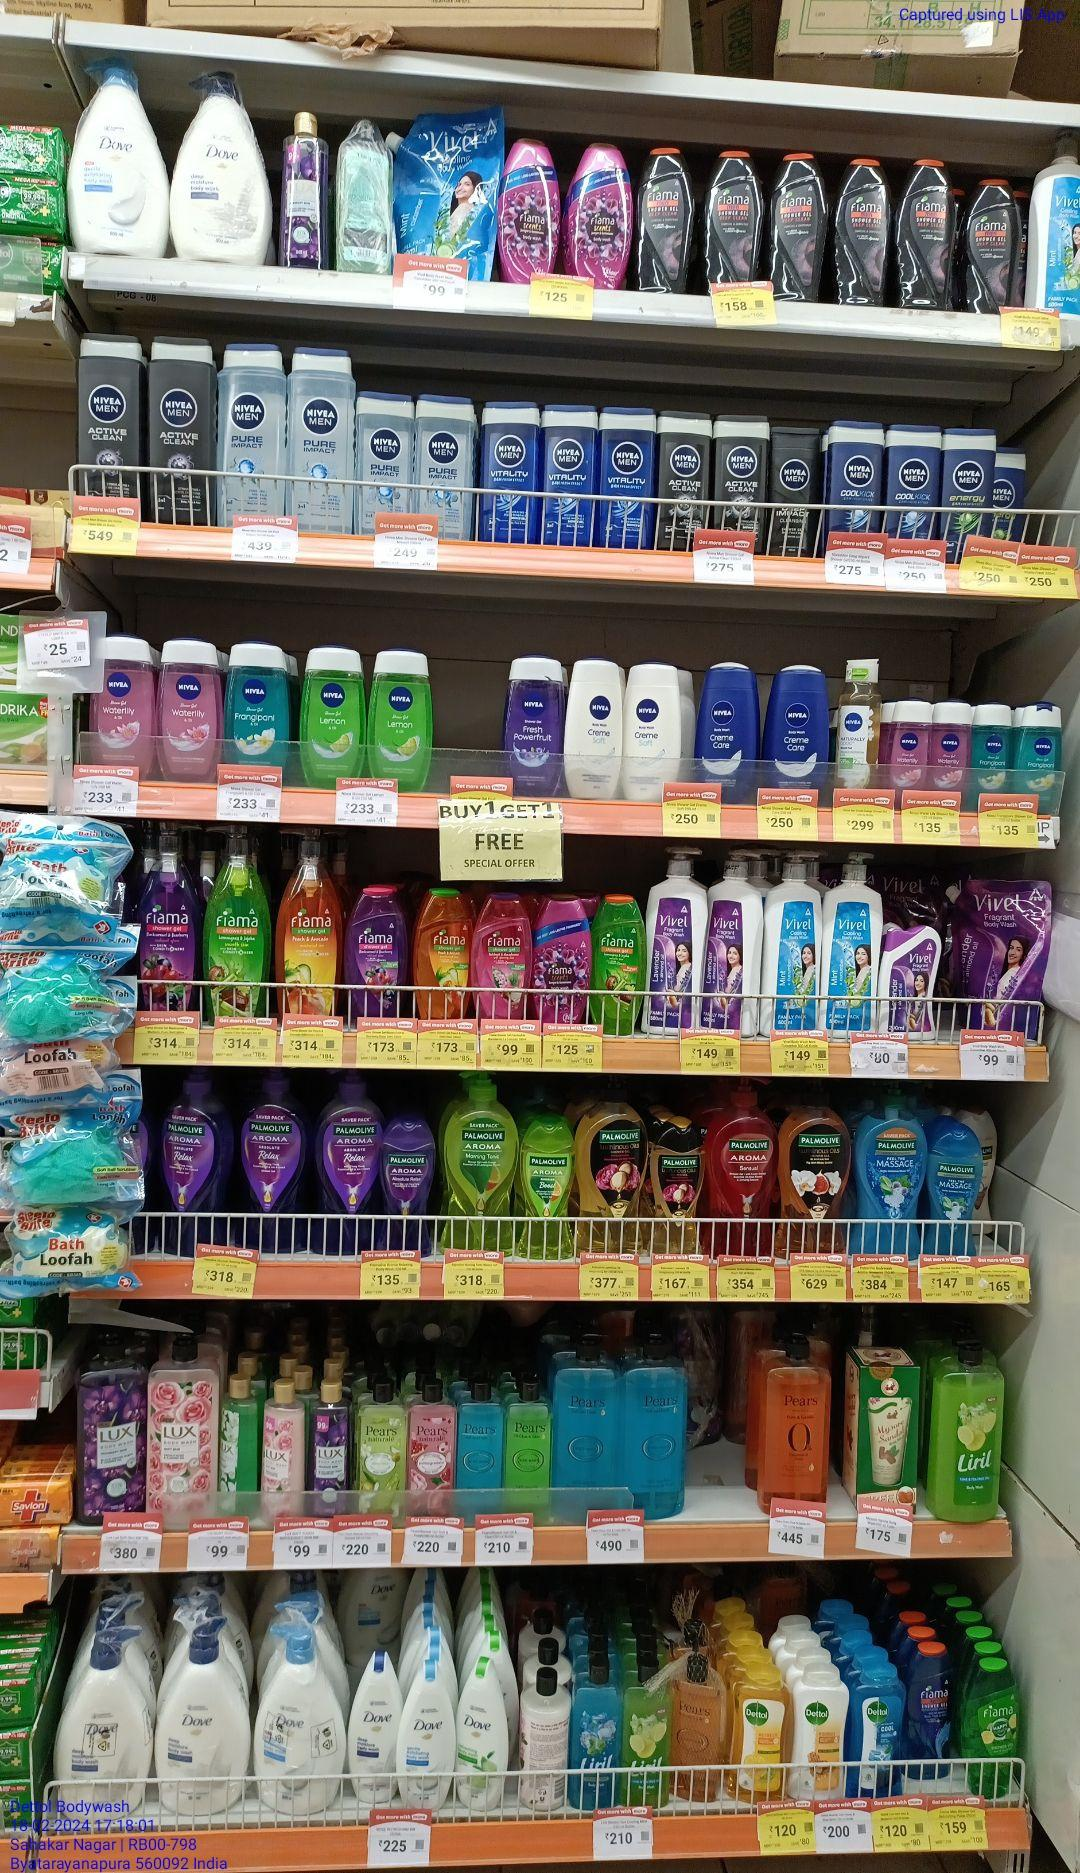Dettol_Bodywash_Cool: (850, 1659, 904, 1797)
Dettol_Bodywash_Refresh: (724, 1667, 789, 1800)
Dettol_Nourish_Body_Wash_250ML: (792, 1666, 842, 1798)
Dove_Deep_Moisture_Body_Wash_250ML: (350, 1649, 400, 1806)
Dove_Gentle_Exfoliating_Body_Wash_250ML: (402, 1658, 456, 1810)
Dove_Refreshing_Body_Wash_250ML: (459, 1653, 509, 1816)
Fiama_Shower_Gel_Lemongrass_and_Jojoba_250ML: (591, 893, 645, 1033)
Fiama_Shower_Gel_Patchouli_and_Macadamia_250ML: (476, 891, 528, 1019)
Fiama_Shower_Gel_Peach_and_Avocado_250ML: (410, 884, 473, 1018)
Liril_Cooling_Mint_Body_Wash_250ML: (568, 1657, 622, 1806)
Liril_Lime_and_Tea_Tree_Oil_Body_Wash_250ML: (626, 1666, 672, 1807)
Lux_Black_Orchid_Scent_and_Juniper_Oil_Body_Wash_245ML: (282, 112, 328, 270), (306, 1376, 352, 1491)
Lux_Body_Wash_Skin_Detox_Freesia_Scent_and_Alove_Vera_245ML: (220, 1374, 256, 1492)
Nivea_Shower_Gel_Frangipani_and_Oil_250ML: (226, 647, 297, 773)
Nivea_Shower_Gel_Fresh_Powerfruit_250ML: (507, 660, 563, 795)
Nivea_Shower_Gel_Lemon_and_Oil_250ML: (372, 648, 435, 794), (302, 647, 365, 787)
Nivea_Shower_Gel_Waterlily_and_Oil_250ML: (161, 641, 220, 787), (94, 635, 154, 774)
Palmolive_Aroma_Moments_Feel_The_Massage_Shower_Gel_250ML: (927, 1119, 980, 1254)
Palmolive_Aroma_Morning_Tonic_Shower_Gel_250ML: (518, 1117, 579, 1259)
Palmolive_Aroma_Relax_250ML: (384, 1118, 432, 1257)
Palmolive_Luminous_Oils_Invigorating_Macadamia_Oil_With_Peony_250ML: (649, 1117, 705, 1253)
Pears_Naturale_Aloe_Vera_Body_Wash_250ML: (355, 1383, 408, 1518)
Pears_Pure_Glycerin_and_Lemon_Flower_Extracts_Body_Wash_250ML: (505, 1382, 550, 1519)
Pears_Pure_Glycerin_and_Mint_Extracts_Body_Wash_250ML: (453, 1384, 501, 1513)
